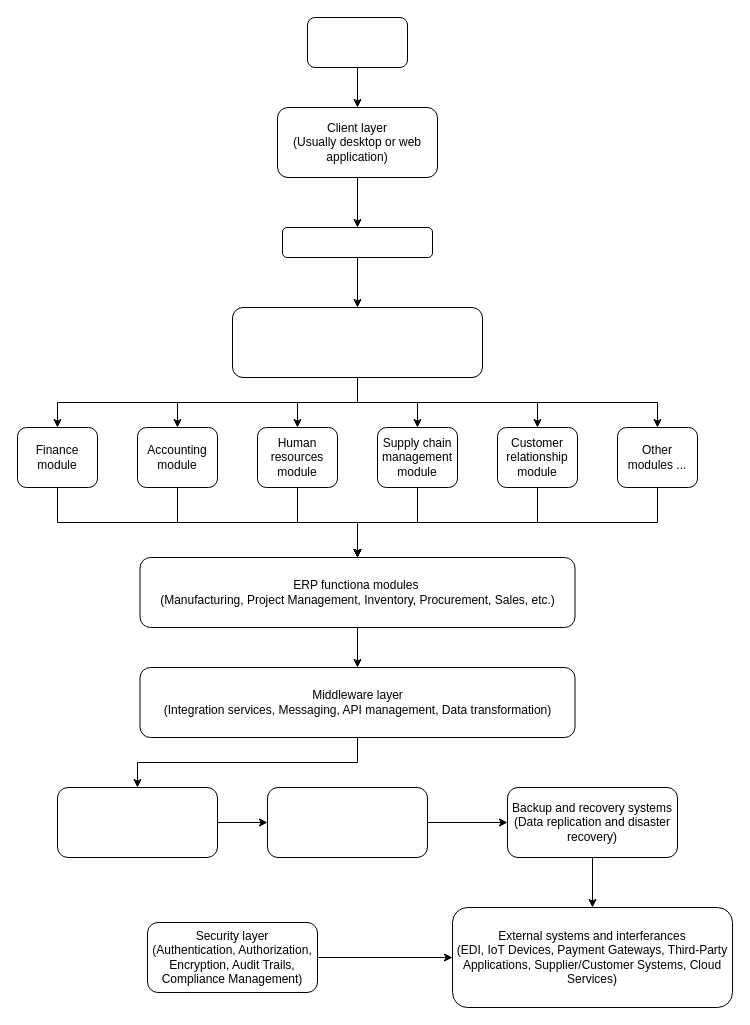
Some shapes in this 750 by 1025 pixel diagram are drawn without their labels. Each missing label, with the box of its shape:
Application server layer (Business logic processing): (232, 306, 482, 378)
Data storage layer (Master data and transactional data): (266, 786, 428, 858)
Database layer (Centralized DBMS): (56, 786, 218, 858)
End users (User interface): (306, 16, 408, 68)
Firewall / SSL / TLS: (282, 226, 432, 258)
